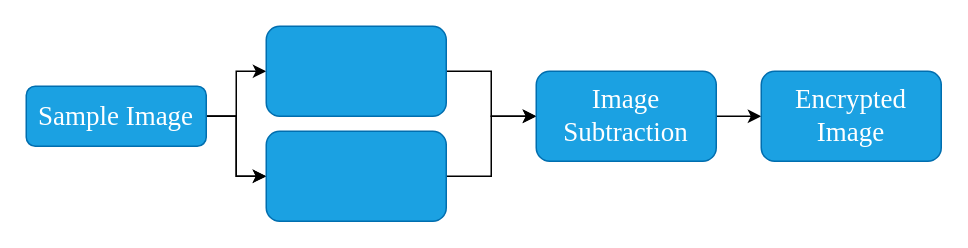
Image size: 968x248. Some labels were removed from this diagram. The box of each missing label's shape, as (x1, y1, x2, y2) in pixels:
Caesar Cipher Algorithm: (265, 130, 446, 221)
Random Image Mask Generated: (265, 25, 446, 116)
